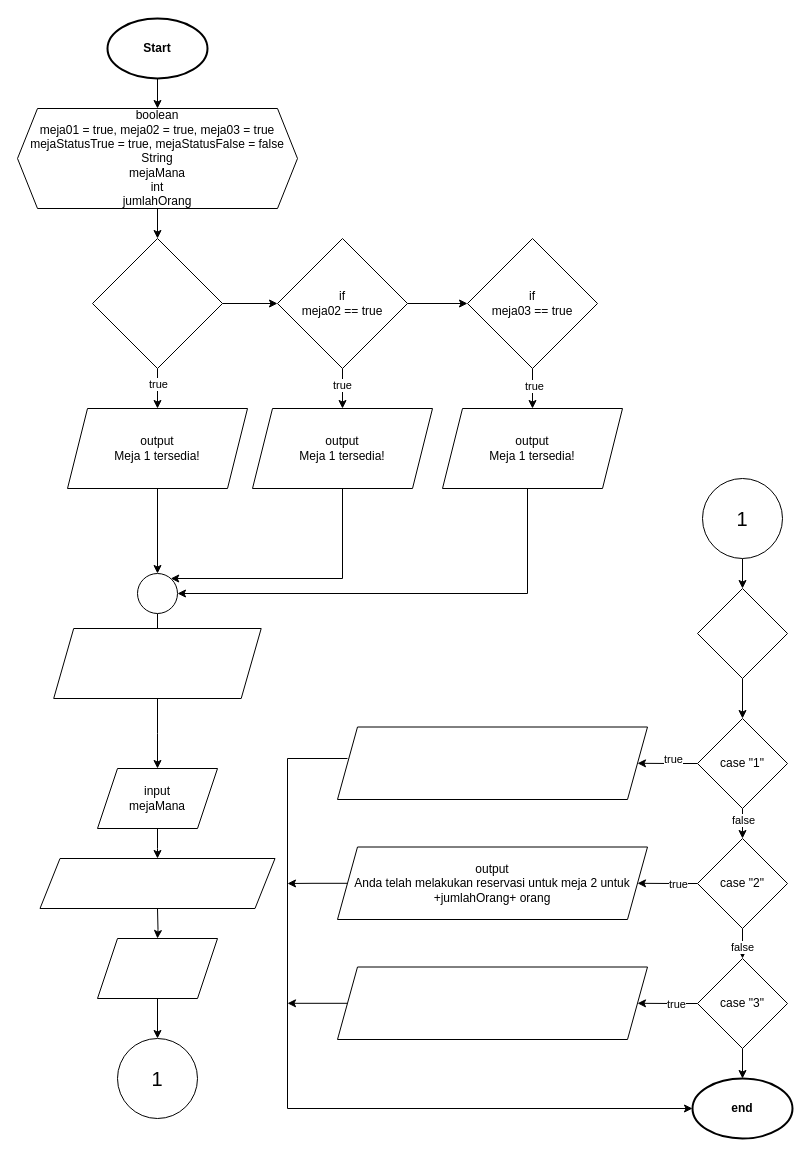
This 811x1156 diagram has some shape labels left out. The centre of each missing label's shape, as x and y in pixels:
"if meja01 == true" goes at point 157,303.
"input jumlahOrang" goes at point 157,968.
"output anda ingin melakukan reservasi untuk berapa orang" goes at point 157,883.
"output Anda telah melakukan reservasi untuk meja 1 untuk +jumlahOrang+ orang" goes at point 492,763.
"output Anda telah melakukan reservasi untuk meja 3 untuk +jumlahOrang+ orang" goes at point 492,1003.
"output pilih meja mana yang ingin anda tempati (1/2/3) ?" goes at point 157,663.
"switch mejaMana" goes at point 742,633.
